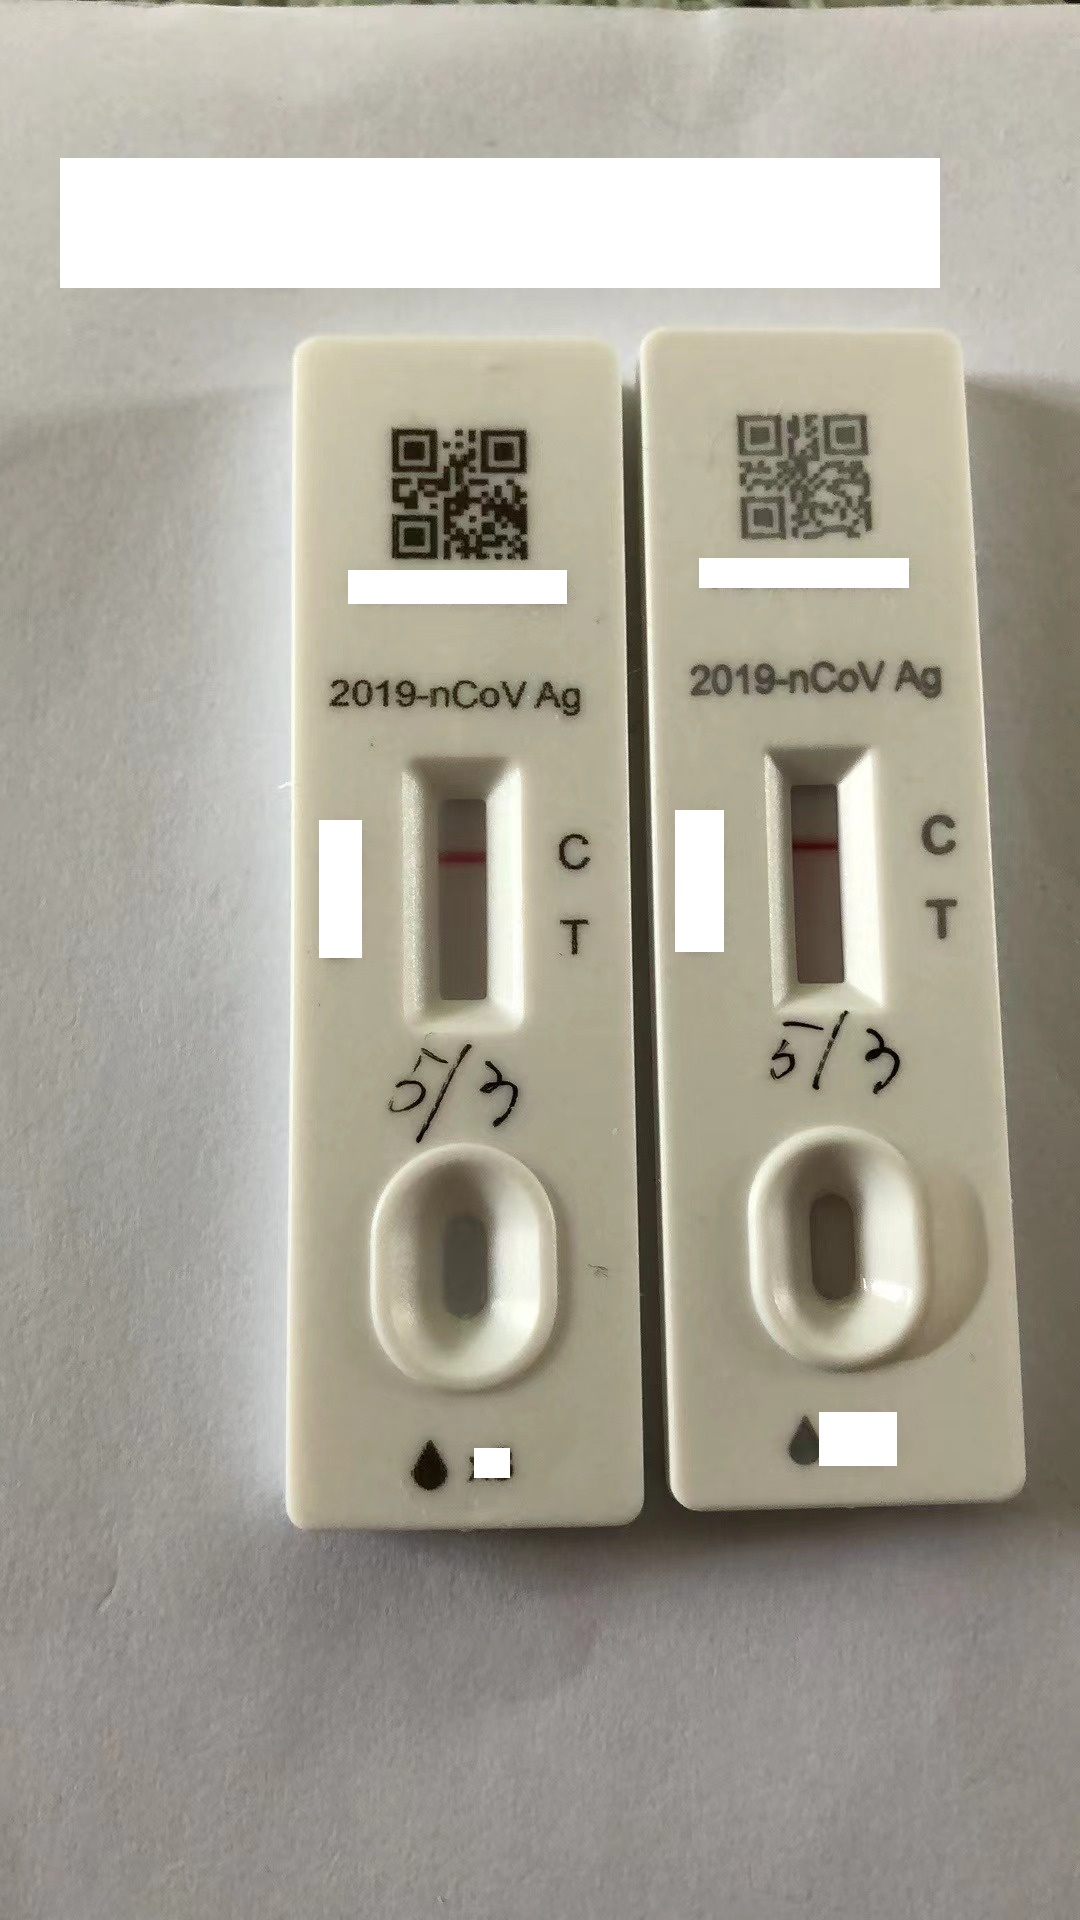negative: (411, 754, 516, 1036), (775, 738, 861, 1014)
